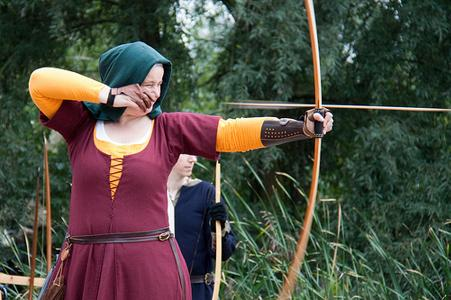person: (29, 41, 335, 300)
